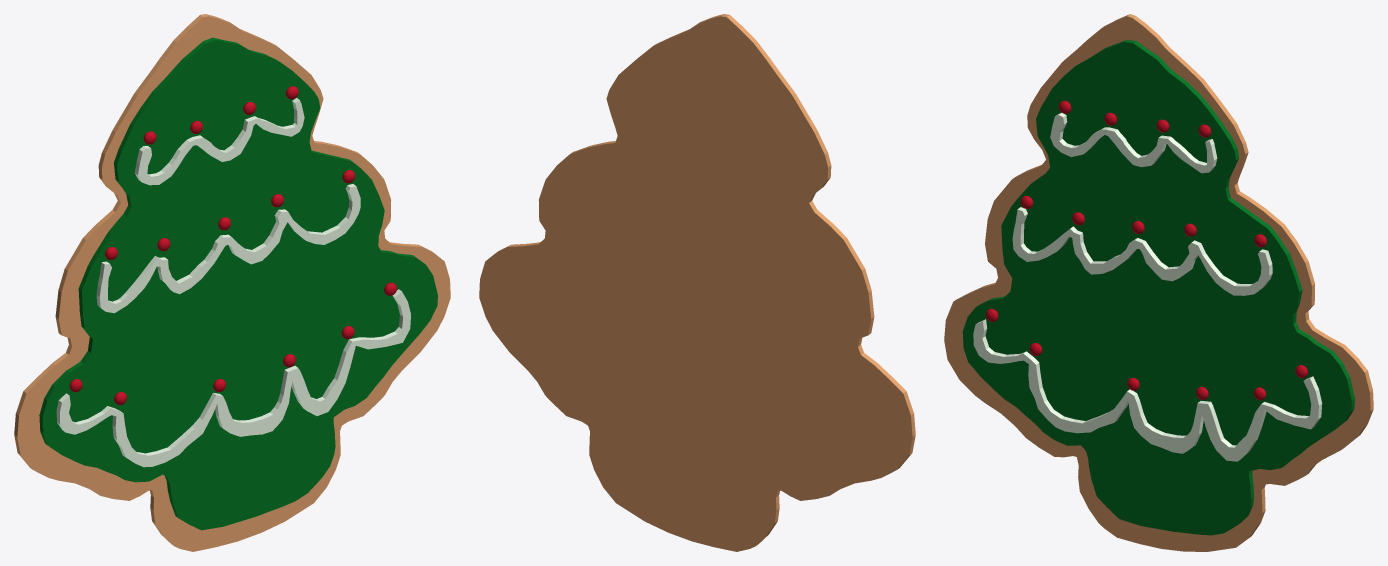
Rendered from Tree1.glb.
3 views of the same model, side by side, from view 1: azimuth 30°, elevation 25°; view 2: azimuth 150°, elevation 25°; view 3: azimuth 330°, elevation 25° (orthographic).
Visible parts, largest first — view 1: Tree1; view 2: Tree1; view 3: Tree1.
Part boxes in pixels (x1,y1,x2,y2): Tree1: [14, 14, 450, 551]; Tree1: [479, 14, 915, 551]; Tree1: [944, 14, 1373, 551].
Bounding box in the file's own units: 0.3949 × 0.4642 × 0.0167.
